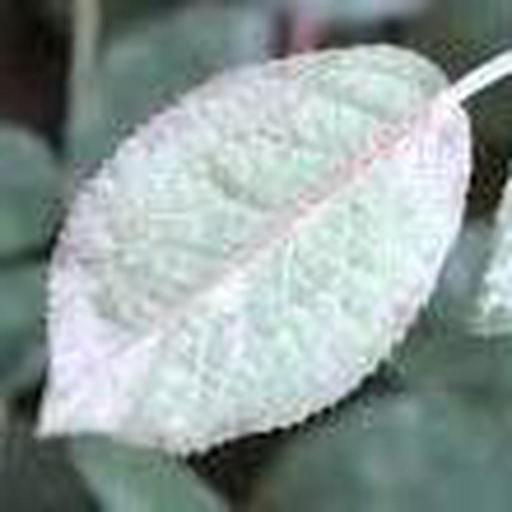powdery_mildew: (38, 44, 512, 456)
